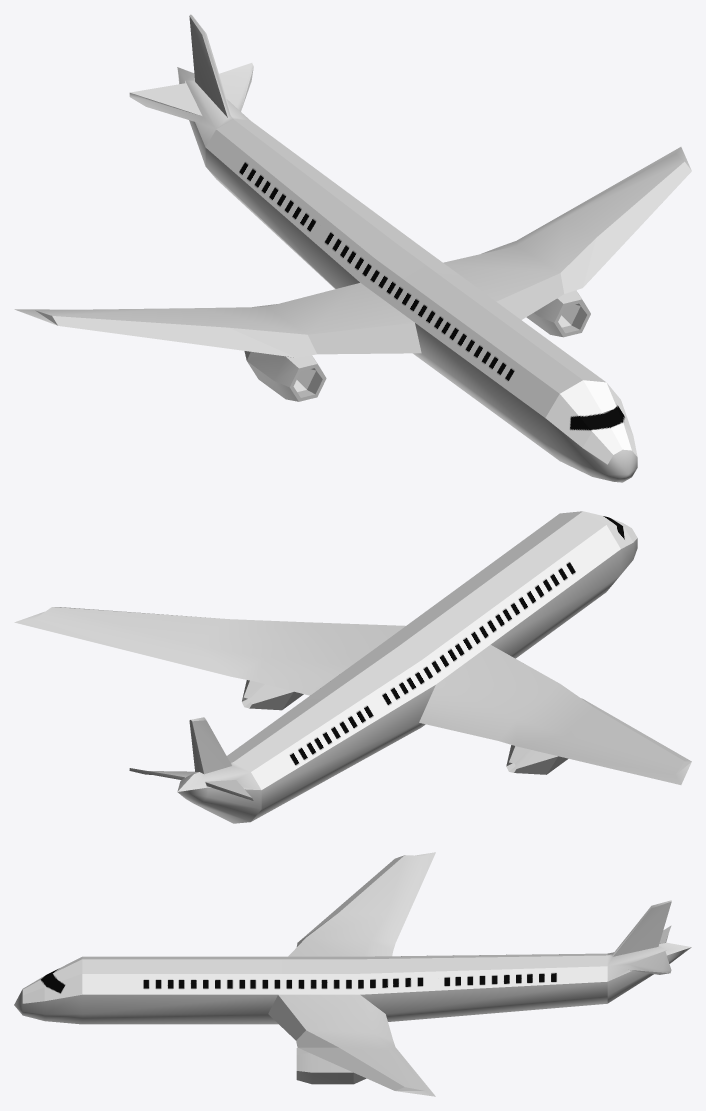
3 views of the same model, one above another, from view 1: azimuth 30°, elevation 25°; view 2: azimuth 150°, elevation 25°; view 3: azimuth 270°, elevation 25° (orthographic). The views are drawn at different scales.
Parts seen in each view (by area): view 1: polySurface3_lambert2_0, polySurface2_T_lam_plane_windows_0, polySurface2_lambert3_0, polySurface3_lambert3_0; view 2: polySurface3_lambert2_0, polySurface2_T_lam_plane_windows_0, polySurface3_lambert3_0, polySurface2_lambert3_0; view 3: polySurface3_lambert2_0, polySurface2_T_lam_plane_windows_0, polySurface3_lambert3_0, polySurface2_lambert3_0.
Boxes of the visible parts, x1=… form: polySurface3_lambert2_0: x1=14, y1=119, x2=691, y2=482; polySurface2_T_lam_plane_windows_0: x1=205, y1=129, x2=637, y2=464; polySurface2_lambert3_0: x1=52, y1=161, x2=691, y2=357; polySurface3_lambert3_0: x1=129, y1=14, x2=590, y2=401; polySurface3_lambert2_0: x1=14, y1=511, x2=691, y2=821; polySurface2_T_lam_plane_windows_0: x1=251, y1=511, x2=637, y2=789; polySurface3_lambert3_0: x1=129, y1=680, x2=557, y2=823; polySurface2_lambert3_0: x1=55, y1=607, x2=691, y2=761; polySurface3_lambert2_0: x1=14, y1=852, x2=607, y2=1096; polySurface2_T_lam_plane_windows_0: x1=22, y1=954, x2=607, y2=1003; polySurface3_lambert3_0: x1=353, y1=900, x2=691, y2=1083; polySurface2_lambert3_0: x1=268, y1=855, x2=404, y2=1090.
Size of the model in its own units: 62.22 by 15.59 by 72.87.
2 materials, 1 textured.
